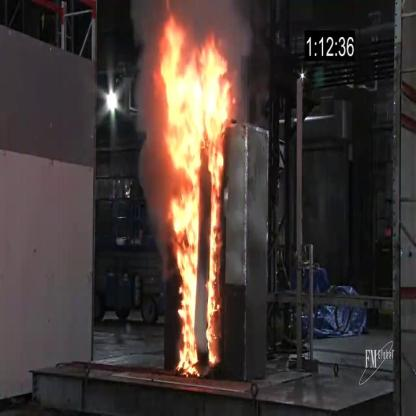fire: (152, 14, 236, 387)
